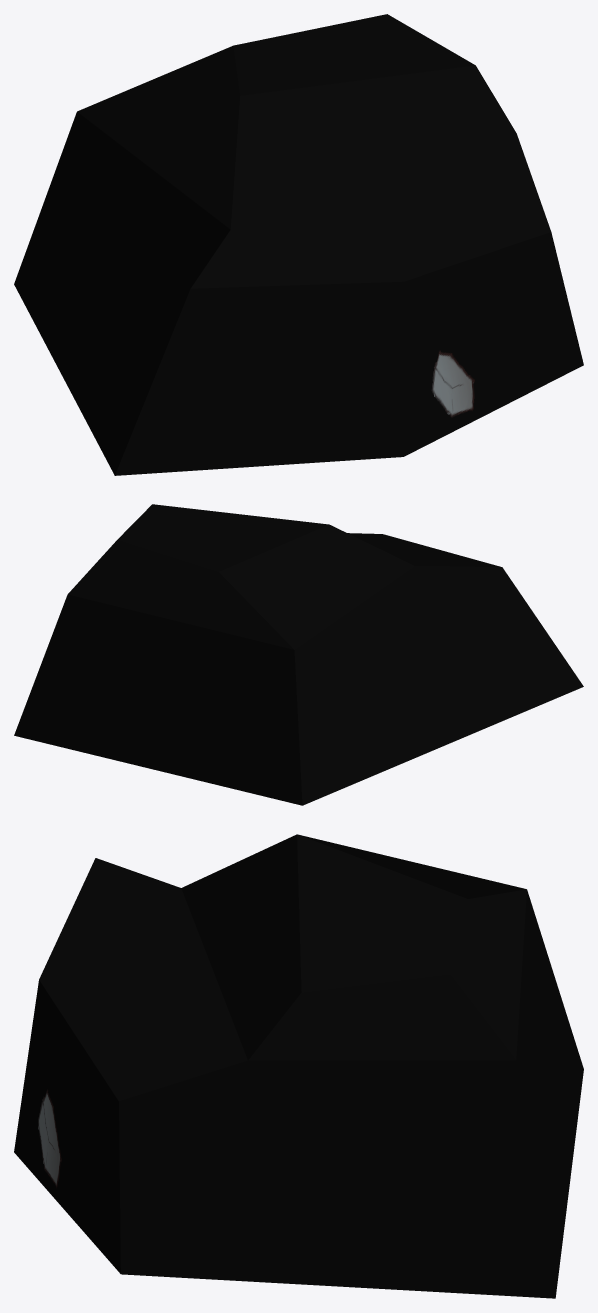
File: Stone2.fbx
The picture shows the model from 3 angles, top to bottom: view 1: azimuth 30°, elevation 25°; view 2: azimuth 150°, elevation 25°; view 3: azimuth 270°, elevation 25°; orthographic projection. The views are drawn at different scales.
Parts seen in each view (by area): view 1: Cube; view 2: Cube; view 3: Cube.
Part boxes in pixels (x1,y1,x2,y2): Cube: (14,14,583,475); Cube: (14,504,583,805); Cube: (14,834,583,1298).
Bounding box in the file's own units: 44.15 × 21.31 × 36.71.
